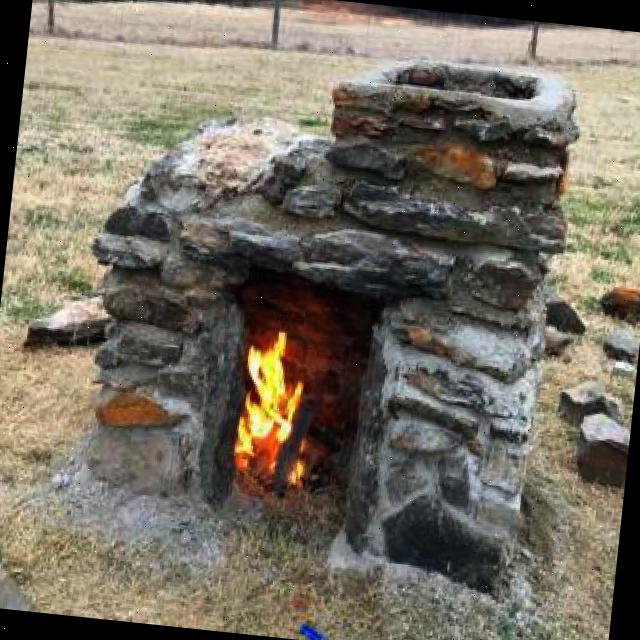fire: (220, 328, 322, 496)
